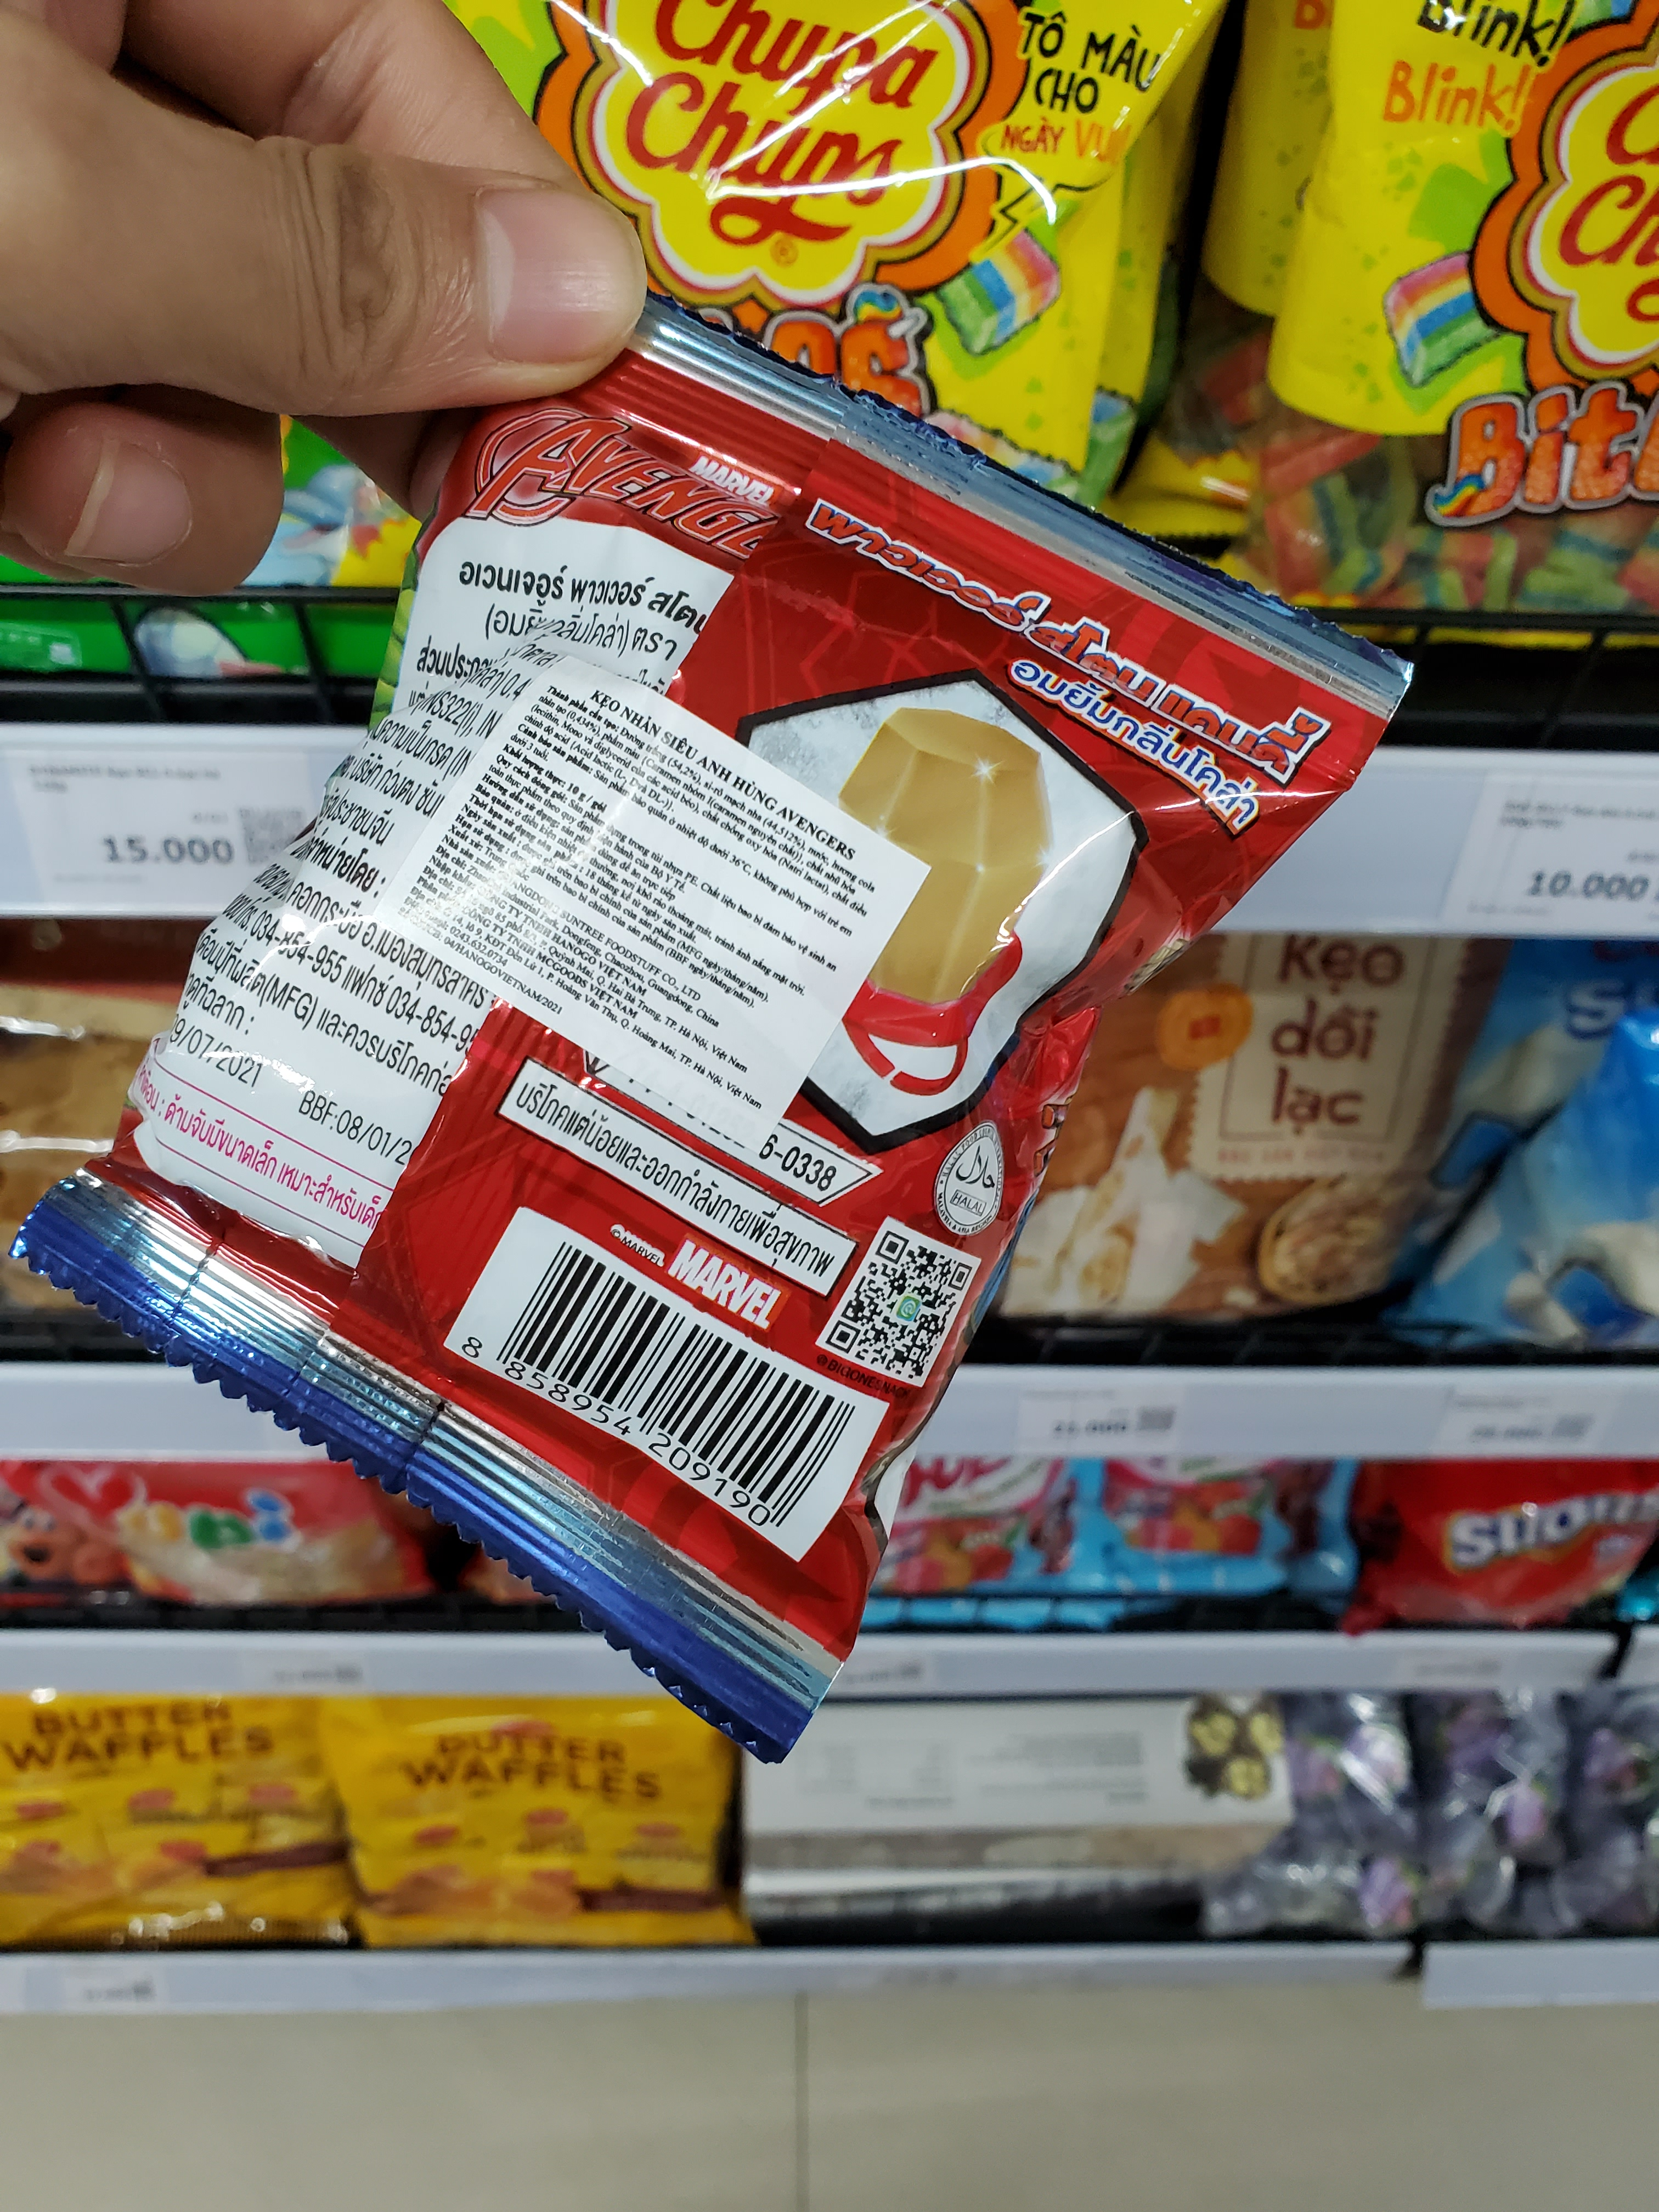barcode: (430, 1233, 864, 1576)
qr code: (817, 1186, 993, 1423)
